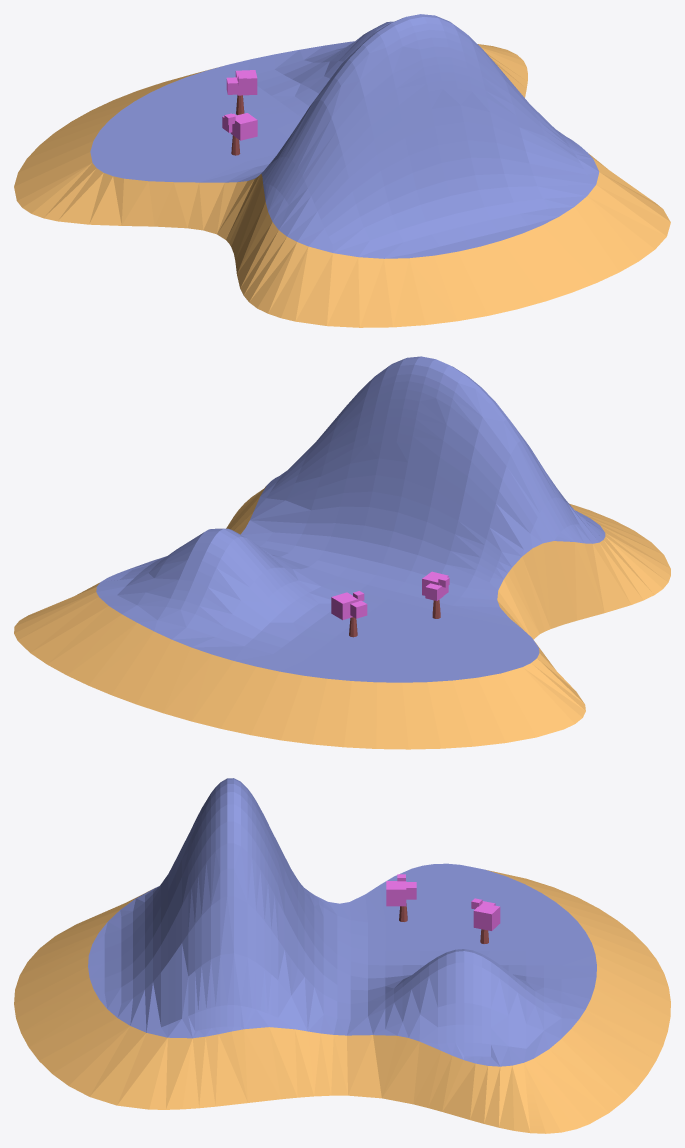
3 renders of one model, top to bottom at view 1: azimuth 30°, elevation 25°; view 2: azimuth 150°, elevation 25°; view 3: azimuth 270°, elevation 25°, orthographic. The views are drawn at different scales.
Parts seen in each view (by area): view 1: Object_6, Object_7, Object_5, Object_3; view 2: Object_6, Object_7, Object_3, Object_5; view 3: Object_6, Object_7, Object_5, Object_3.
Part boxes in pixels (box(x1,y1,x2,y2)): Object_6: box(90, 14, 599, 258); Object_7: box(14, 44, 670, 327); Object_5: box(222, 113, 257, 140); Object_3: box(226, 70, 257, 95); Object_6: box(96, 356, 605, 682); Object_7: box(14, 486, 670, 749); Object_3: box(331, 591, 367, 620); Object_5: box(422, 571, 449, 600); Object_6: box(88, 778, 596, 1066); Object_7: box(14, 870, 670, 1133); Object_5: box(386, 874, 416, 906); Object_3: box(471, 898, 500, 930).
Size of the model in its own units: 0.0867 by 0.0336 by 0.0916.
